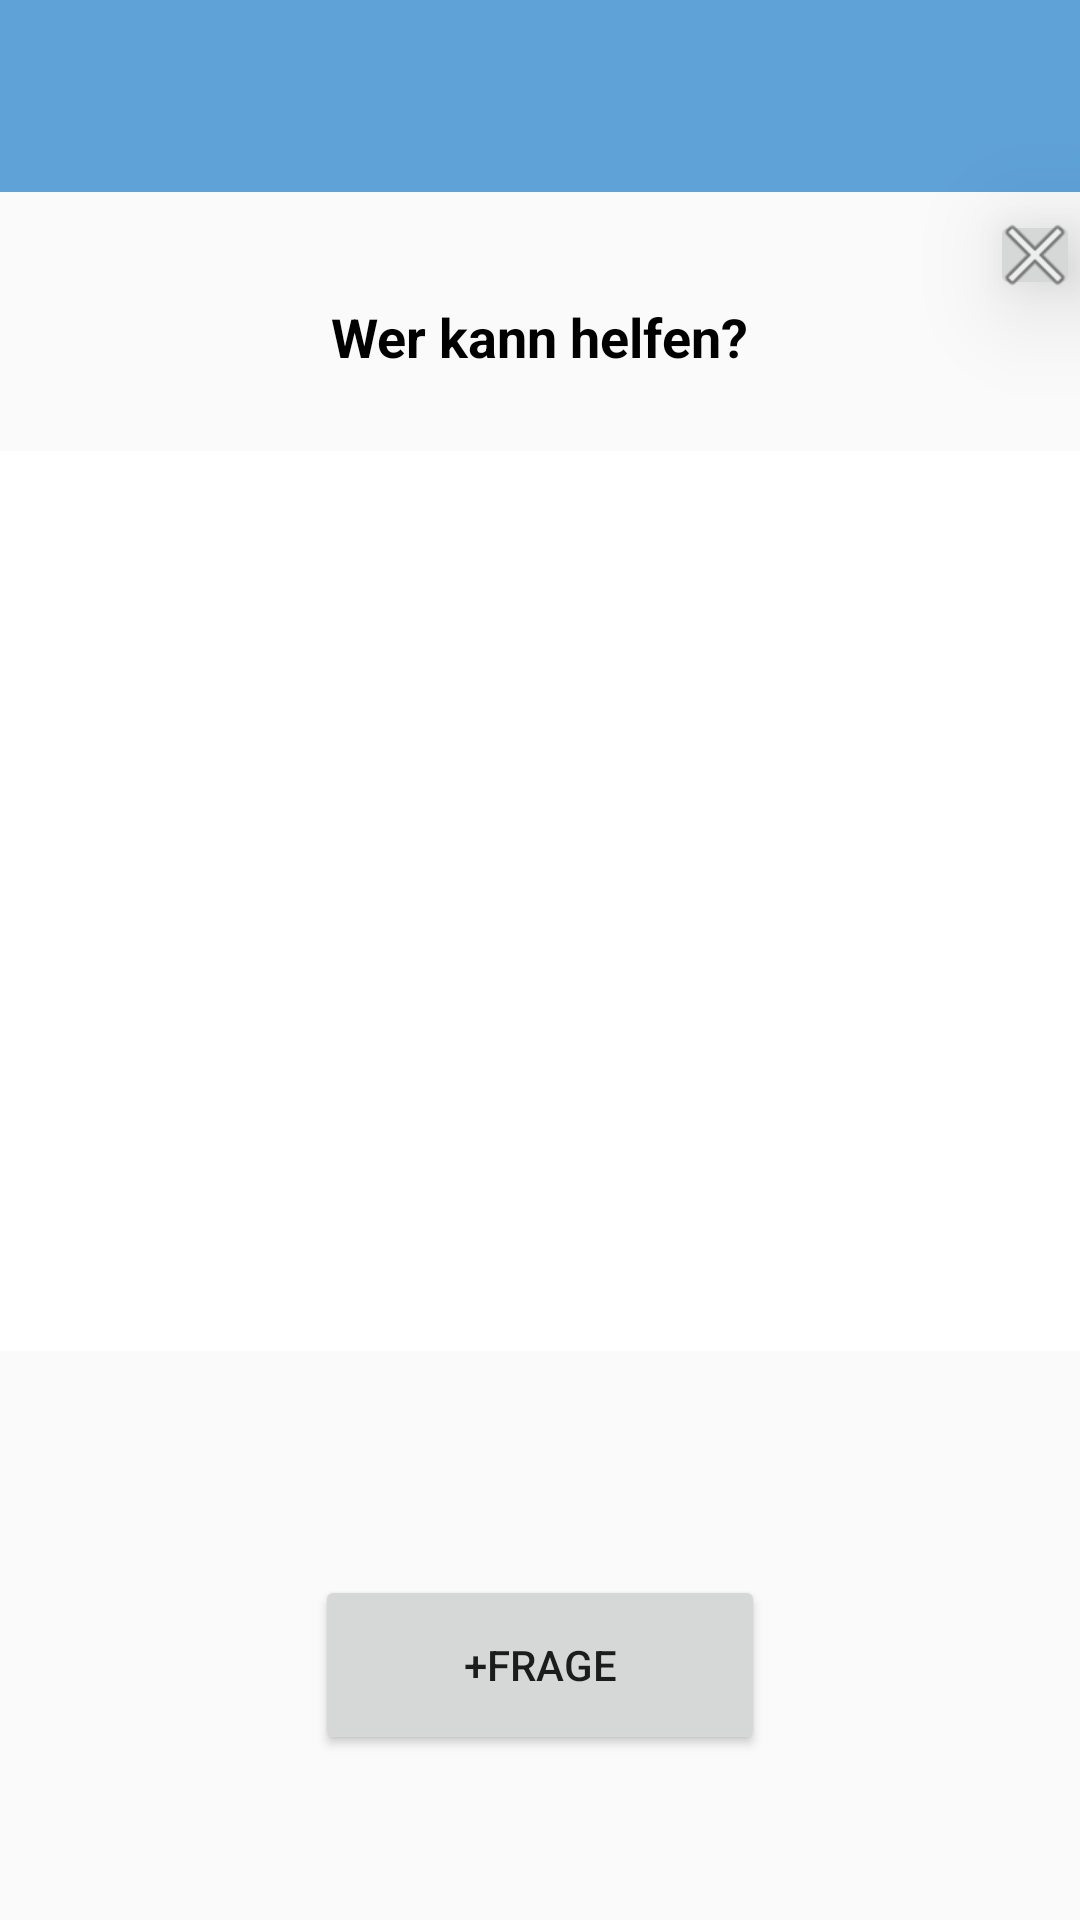

Screen size 1080px×1920px. Icon name, then its center in pixels as (x=x, y=y):
close clear cancel: (x=1035, y=255)
